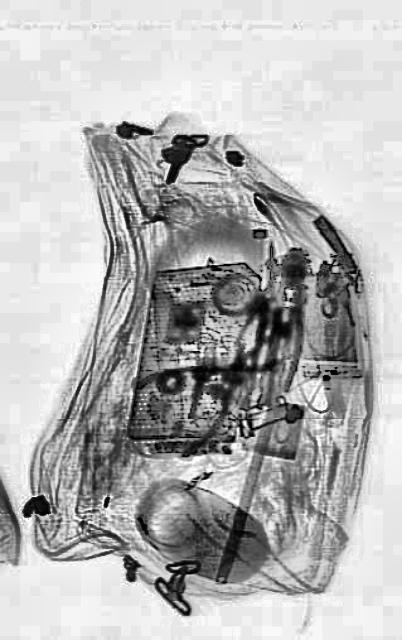Pliers: (132, 306, 268, 474)
